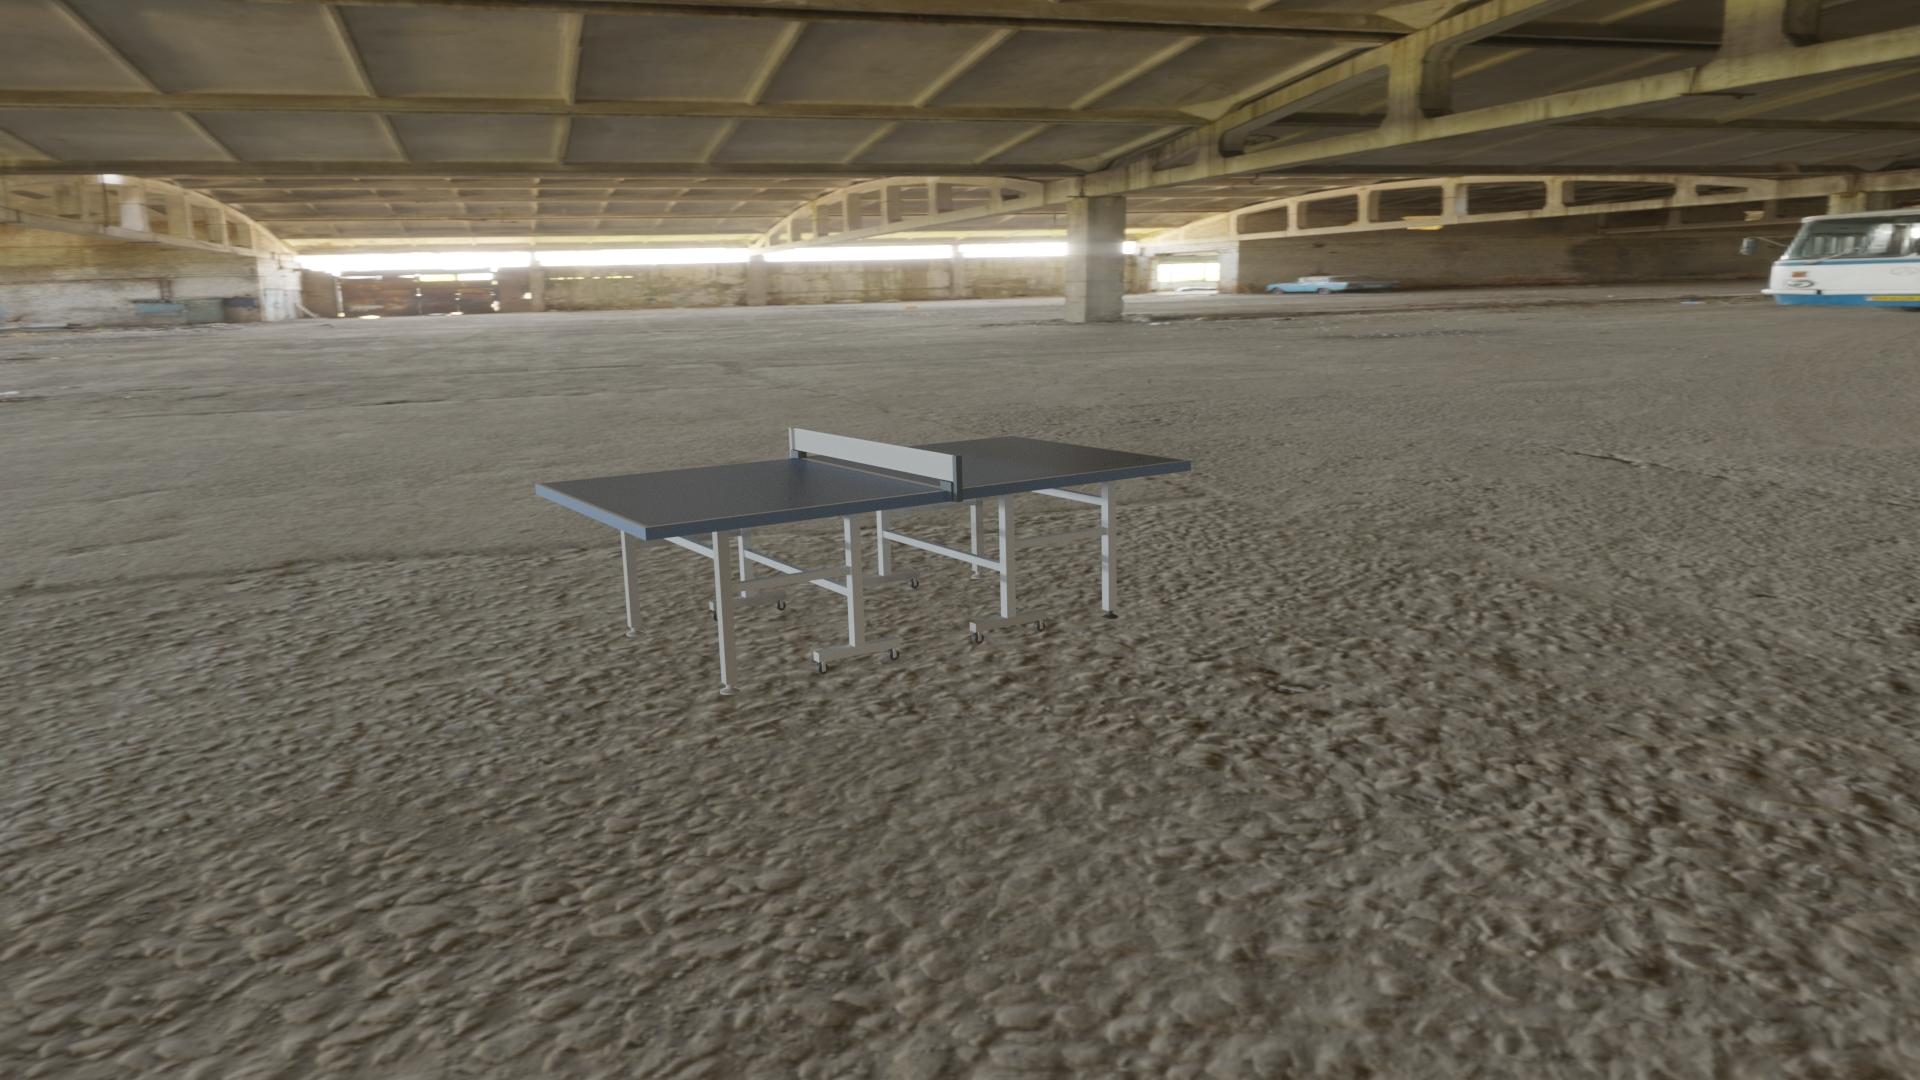table: (541, 436, 1185, 526)
